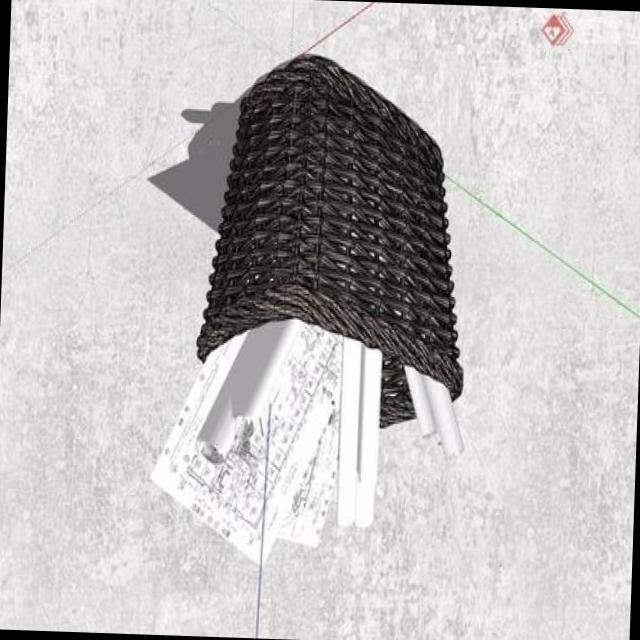dustbin: (187, 48, 477, 434)
